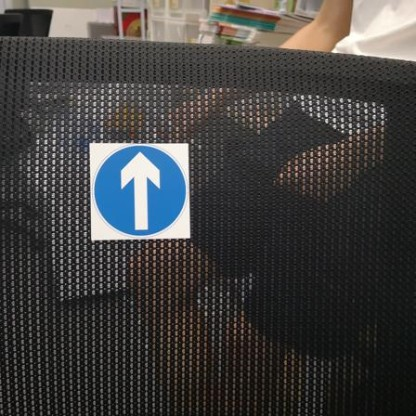forward: (84, 141, 188, 244)
